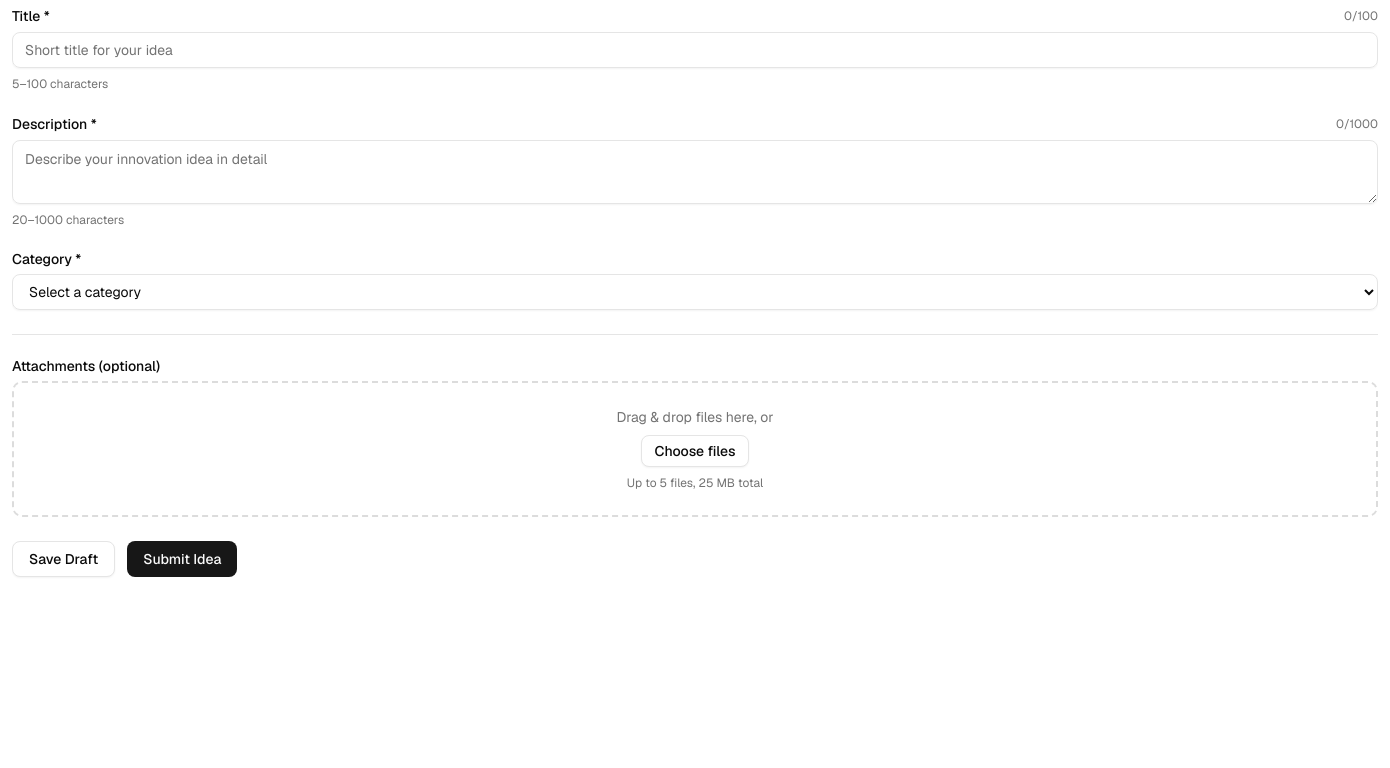
Test: IdeaForm — extended coverage › shows dynamic category fields when a category is selected
Select "Process Improvement" in the dropdown labelled "Category *" at (695, 292), box [12,274,1378,310]
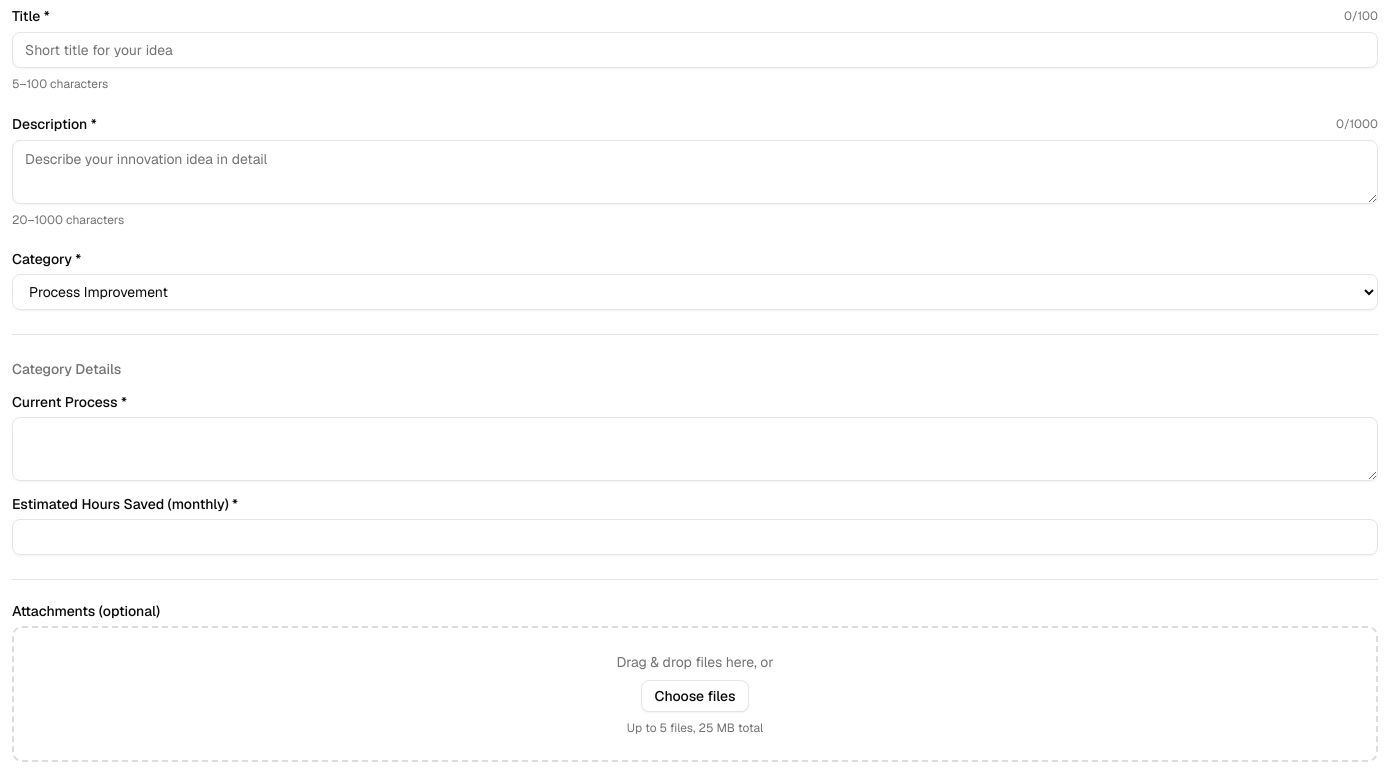
Now the heading "Category Details" is shown, box [12,360,121,378]
